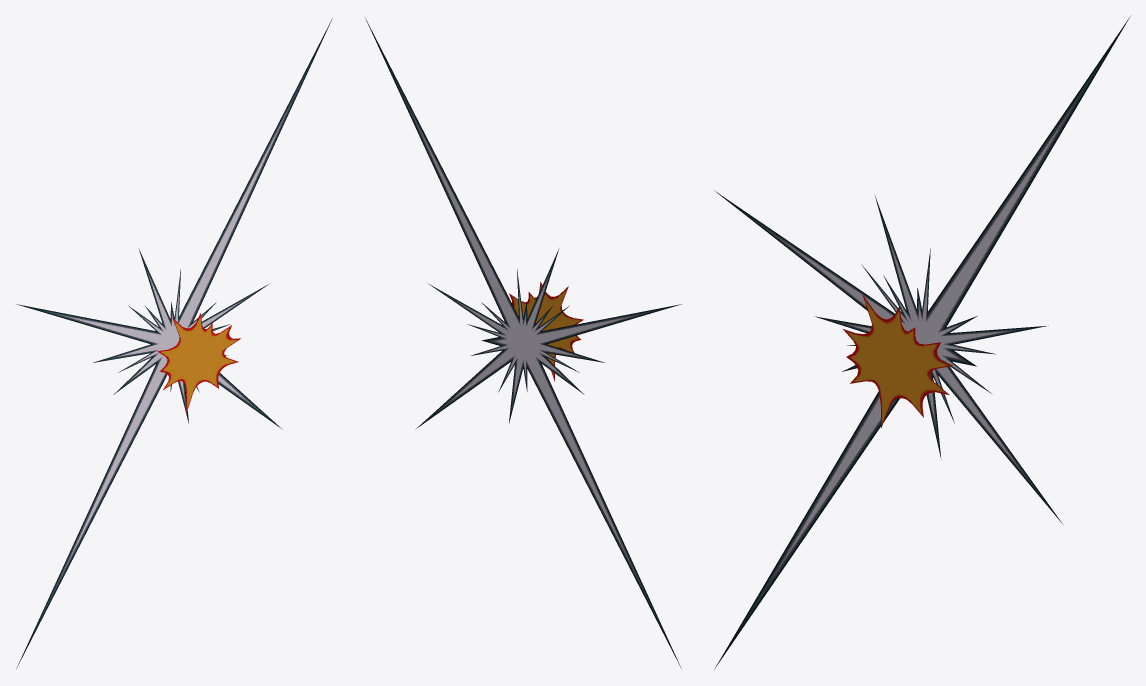
Rendered from hit-normal.glb.
3 views of the same model, side by side, from view 1: azimuth 30°, elevation 25°; view 2: azimuth 150°, elevation 25°; view 3: azimuth 330°, elevation 25° (orthographic). The views are drawn at different scales.
Visible parts, largest first — view 1: polygon0, polygon1; view 2: polygon0, polygon1; view 3: polygon0, polygon1.
Part boxes in pixels (x1,y1,x2,y2): polygon0: (16,18,332,668); polygon1: (157,313,240,412); polygon0: (365,18,681,668); polygon1: (509,281,583,381); polygon0: (714,16,1130,669); polygon1: (843,295,952,428).
Size of the model in its own units: 59.92 by 104 by 7.
Materials: 2 (2 with a texture image).
